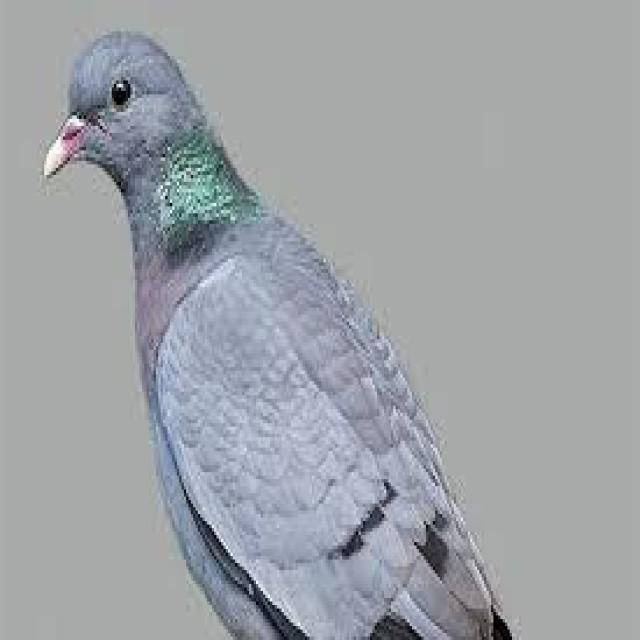pigeon: (33, 0, 492, 640)
